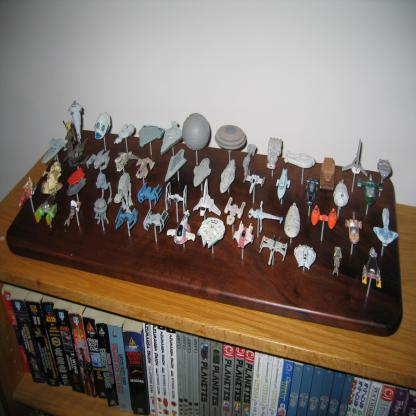Ball: (183, 113, 210, 151)
